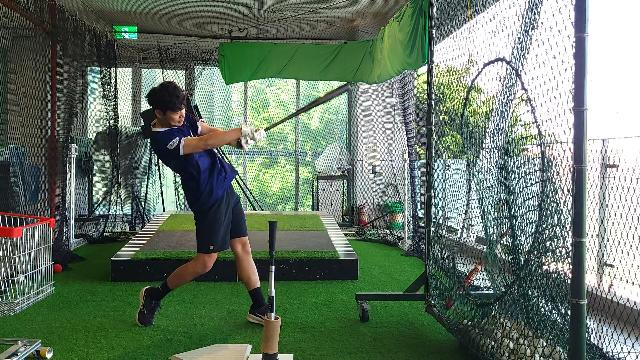bat: (263, 82, 353, 132)
